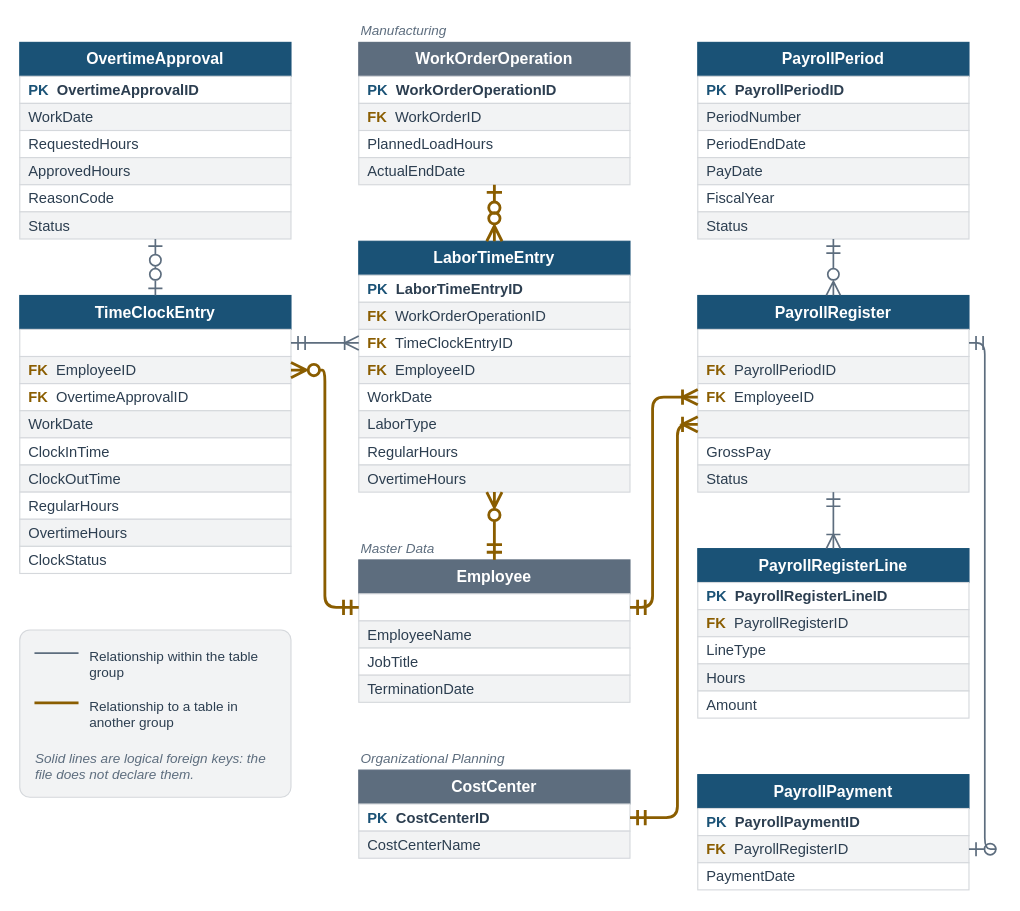
Some shapes in this 1020 by 911 pixel diagram are drawn without their labels. The centre of each missing label's shape, as x and y in pixels:
"FK CostCenterID" belongs at [833,424].
"PK EmployeeID" belongs at [494,607].
"PK PayrollRegisterID" belongs at [833,342].
"PK TimeClockEntryID" belongs at [155,342].
